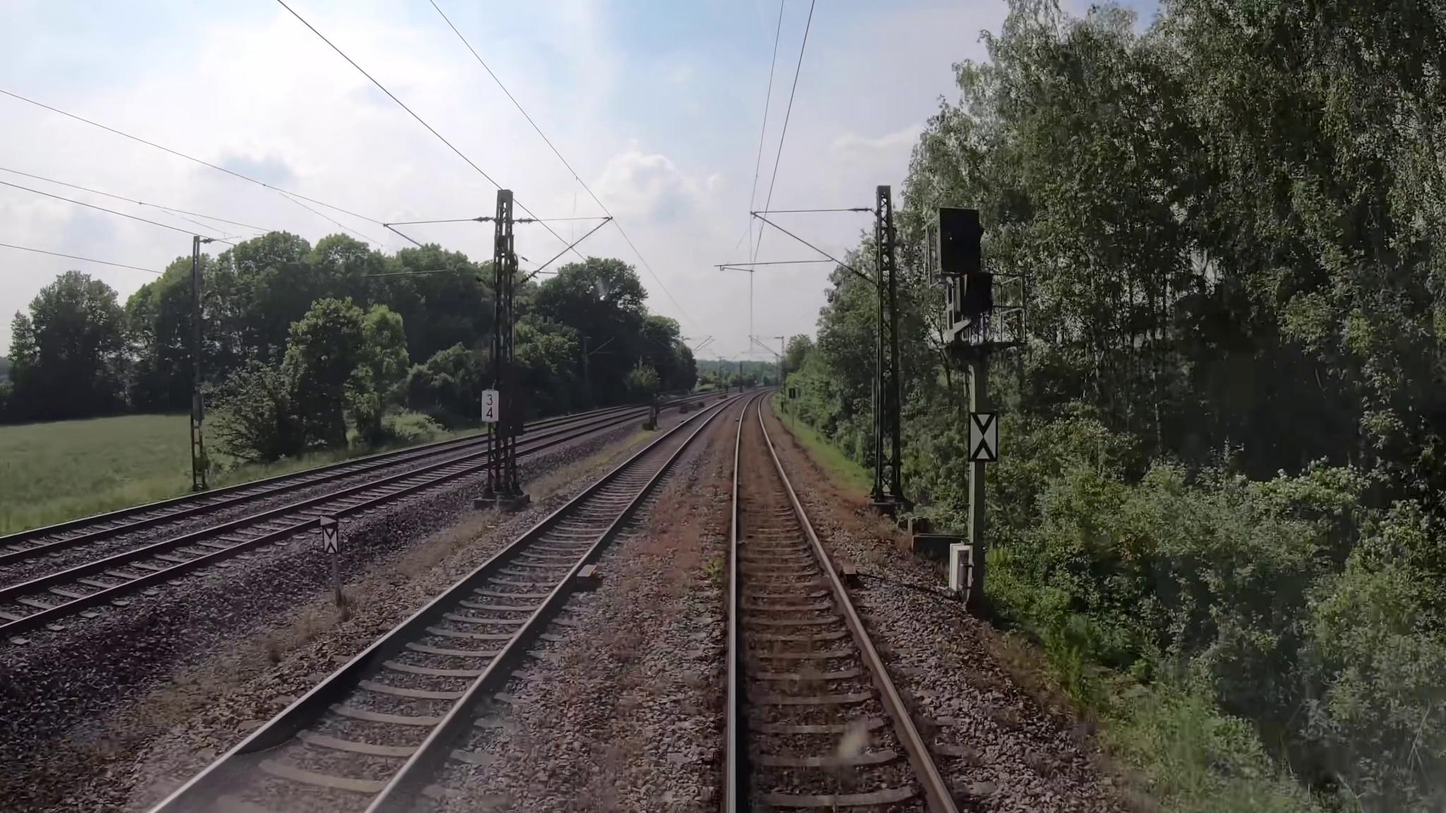Plant: (737, 408, 822, 724), (765, 406, 919, 559), (630, 411, 740, 624)
